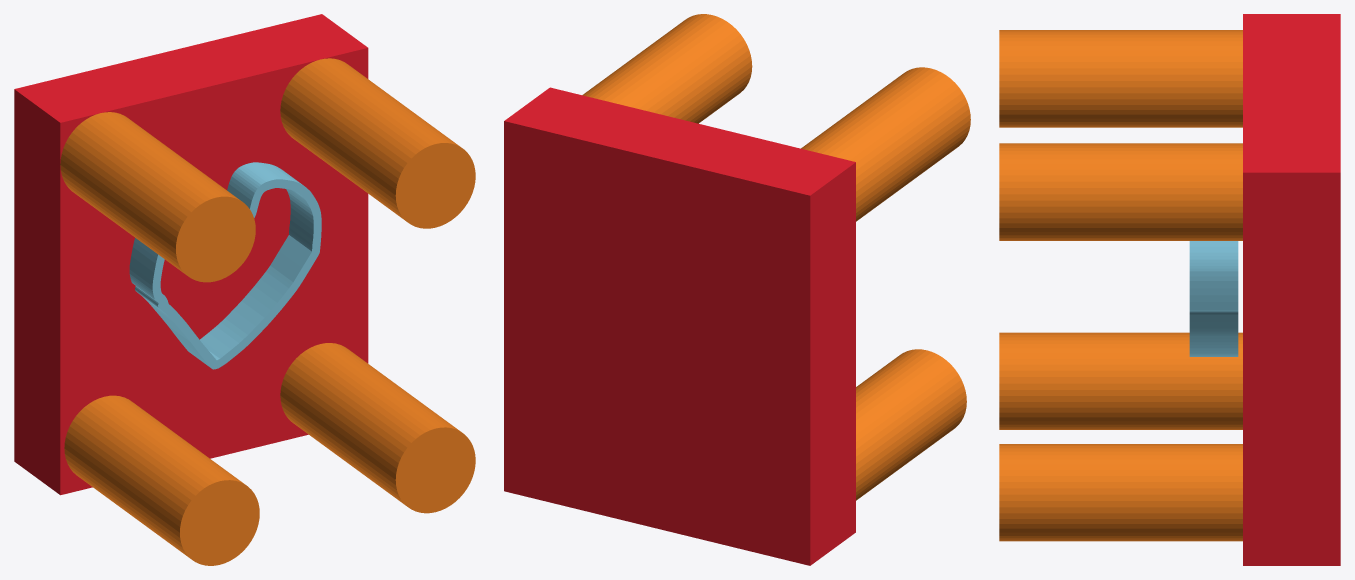
Rendered from roman.obj.
The picture shows the model from 3 angles, left to right: view 1: azimuth 30°, elevation 25°; view 2: azimuth 150°, elevation 25°; view 3: azimuth 270°, elevation 25°; orthographic projection. The views are drawn at different scales.
Parts seen in each view (by area): view 1: obj_0, obj_4, obj_1, obj_2, obj_3, obj_5; view 2: obj_0, obj_1, obj_4, obj_2; view 3: obj_0, obj_1, obj_3, obj_4, obj_2, obj_5.
Boxes of the visible parts, <box> form: obj_0: <box>14,14,368,495</box>; obj_4: <box>280,58,475,228</box>; obj_1: <box>60,112,255,282</box>; obj_2: <box>64,395,259,565</box>; obj_3: <box>280,343,475,513</box>; obj_5: <box>129,162,321,369</box>; obj_0: <box>504,87,855,565</box>; obj_1: <box>801,67,970,221</box>; obj_4: <box>582,14,752,123</box>; obj_2: <box>856,349,966,500</box>; obj_0: <box>1243,14,1340,565</box>; obj_1: <box>999,30,1242,127</box>; obj_3: <box>999,444,1242,541</box>; obj_4: <box>999,143,1242,240</box>; obj_2: <box>999,332,1242,429</box>; obj_5: <box>1189,241,1238,356</box>.
Bounding box in the file's own units: 77 × 89 × 70.
